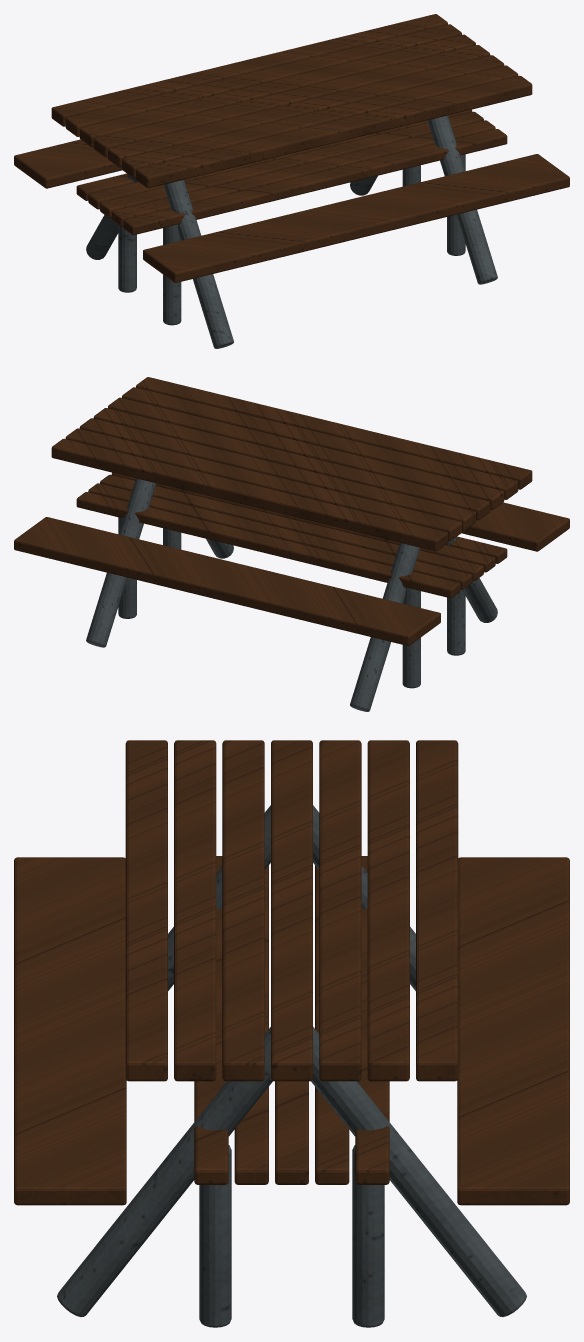
Rendered from PROP-61744FEF0A60_lod0.glb.
3 views of the same model, one above another, from view 1: azimuth 30°, elevation 25°; view 2: azimuth 150°, elevation 25°; view 3: azimuth 270°, elevation 25° (orthographic). The views are drawn at different scales.
Parts seen in each view (by area): view 1: table_planks, picnic_seat, seat_slats.004, A_frame, bench_legs.004; view 2: table_planks, picnic_seat, seat_slats.004, A_frame, bench_legs.004; view 3: table_planks, picnic_seat, A_frame, seat_slats.004, bench_legs.004.
Part boxes in pixels (x1,y1,x2,y2): table_planks: (51, 14, 532, 188); picnic_seat: (14, 139, 569, 282); seat_slats.004: (76, 109, 507, 235); A_frame: (86, 115, 497, 348); bench_legs.004: (118, 154, 465, 325); table_planks: (51, 377, 532, 551); picnic_seat: (14, 502, 569, 645); seat_slats.004: (76, 472, 507, 598); A_frame: (86, 478, 497, 711); bench_legs.004: (118, 517, 465, 688); table_planks: (125, 740, 458, 1081); picnic_seat: (14, 857, 569, 1205); A_frame: (57, 805, 526, 1316); seat_slats.004: (194, 856, 389, 1184); bench_legs.004: (199, 1145, 384, 1327).
Size of the model in its own units: 1.95 by 0.8306 by 1.38.
2 materials, 2 textured.
